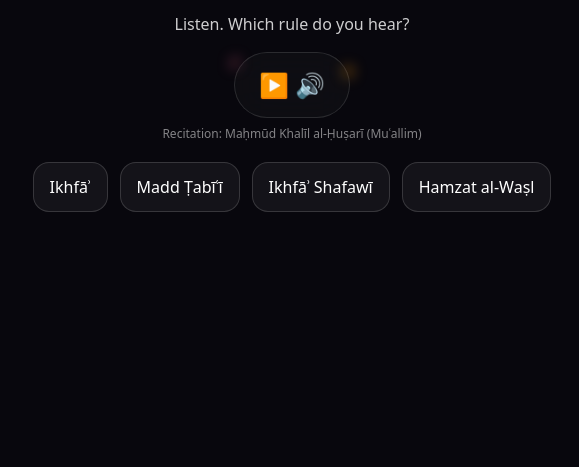
Test: ListenIdentify › moves to the next clip with a fresh, unanswered question
Click the button "Ikhfāʾ".
click(70, 187)  # box left=32, top=162, right=108, bottom=212
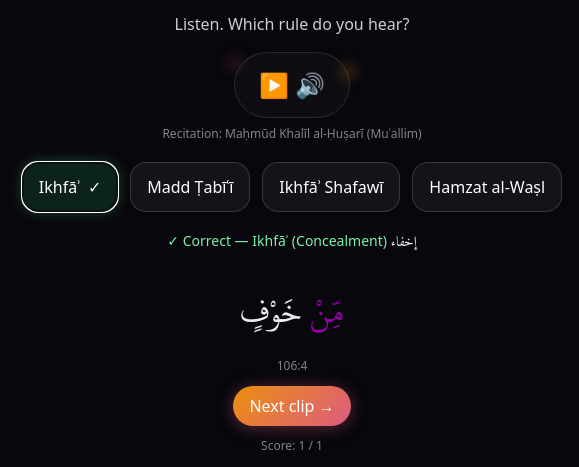
Click the button "Next clip →".
click(292, 406)  # box left=233, top=386, right=351, bottom=426
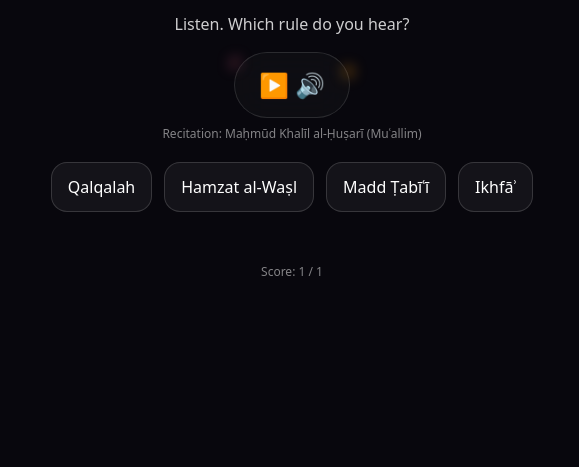
Expected: the picture with class "tajweed-text" is gone
Expected: the button "Qalqalah" is shown, left=51, top=162, right=152, bottom=212
